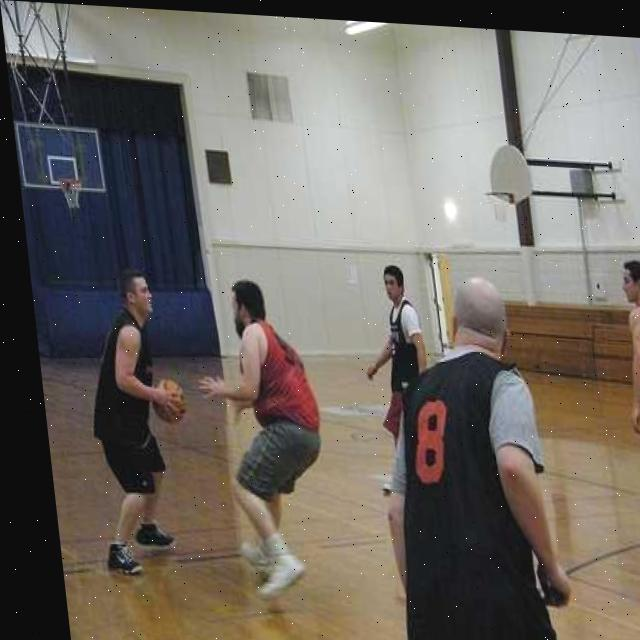basketball: (150, 376, 190, 426)
hoop: (480, 190, 520, 224), (58, 176, 86, 212)
